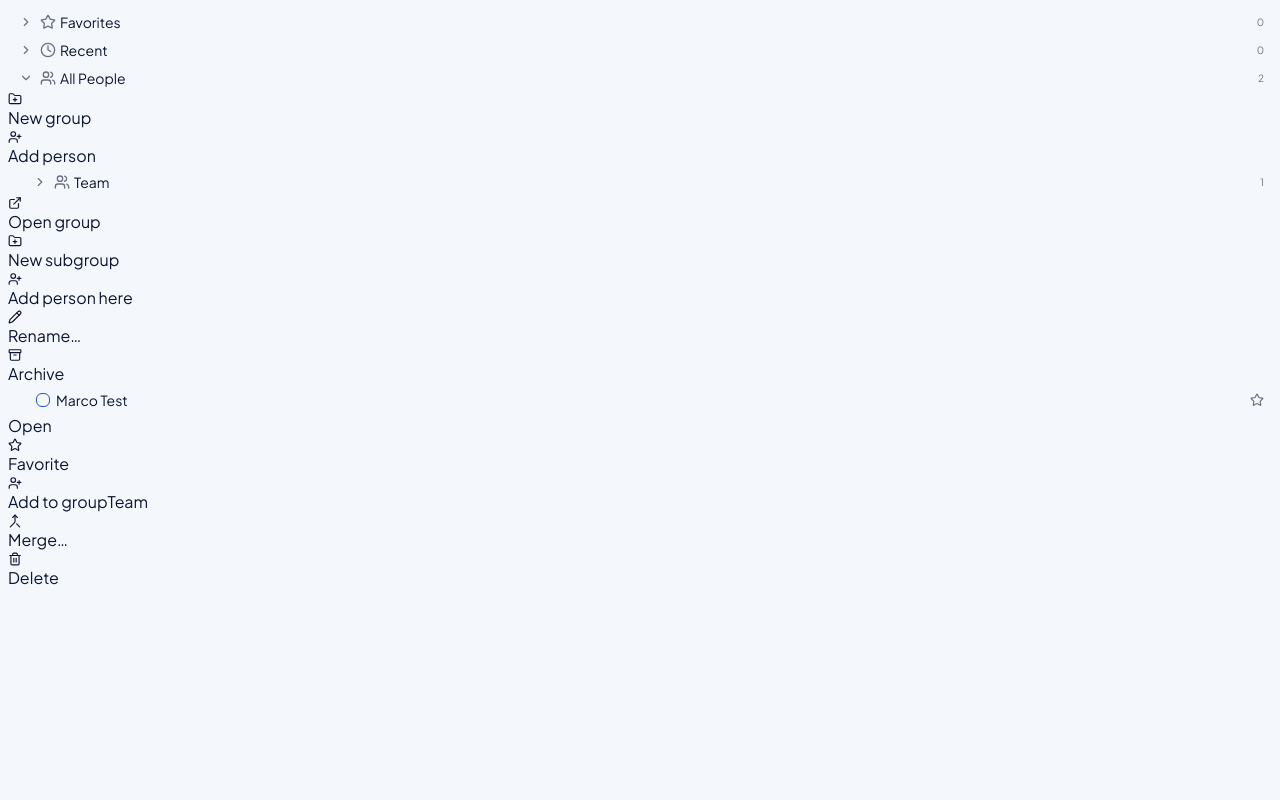
PeopleTree — bulk-select checkbox clicks (regression: checkbox click navigated away) › second checkbox click deselects and hides the bulk bar
Click the checkbox named "Select Marco Test". click: (43, 400)
box: top-left (36, 393), bottom-right (50, 407)
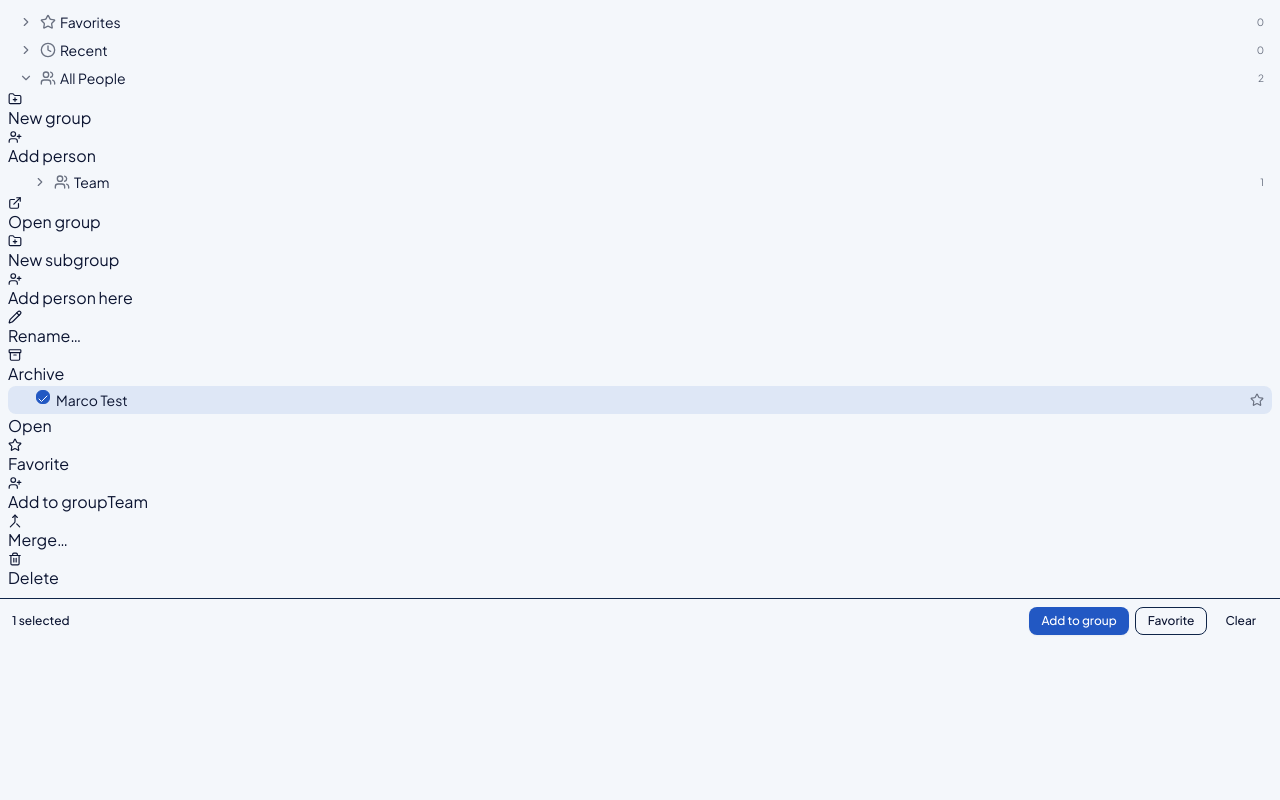
Check: the text "1 selected" is shown, box top-left (12, 613), bottom-right (70, 629)
Click the checkbox named "Select Marco Test". click: (43, 396)
box: top-left (36, 390), bottom-right (50, 404)
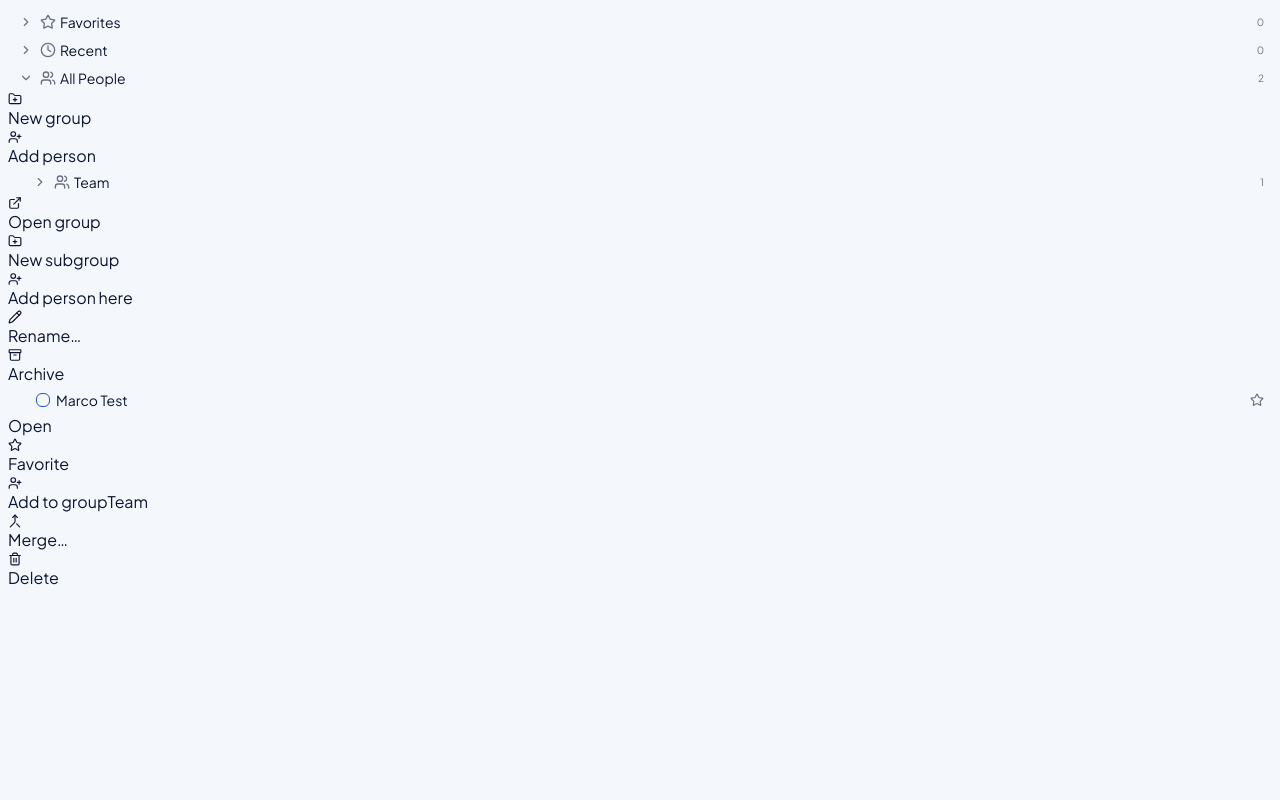
Check: the text "1 selected" is gone
